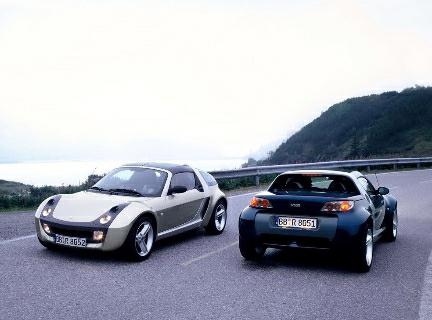smart-roadster: (28, 162, 229, 263), (234, 169, 393, 268)
